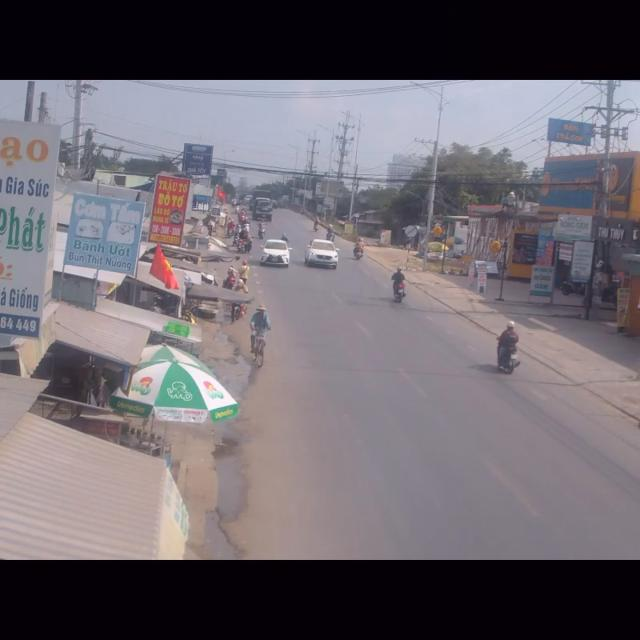car: (306, 239, 336, 268), (260, 239, 289, 268)
motorbike: (494, 321, 518, 380), (390, 260, 405, 304)
